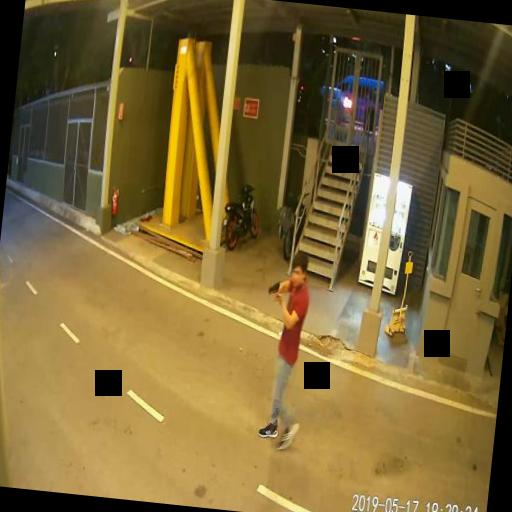Handgun: (266, 278, 280, 298)
